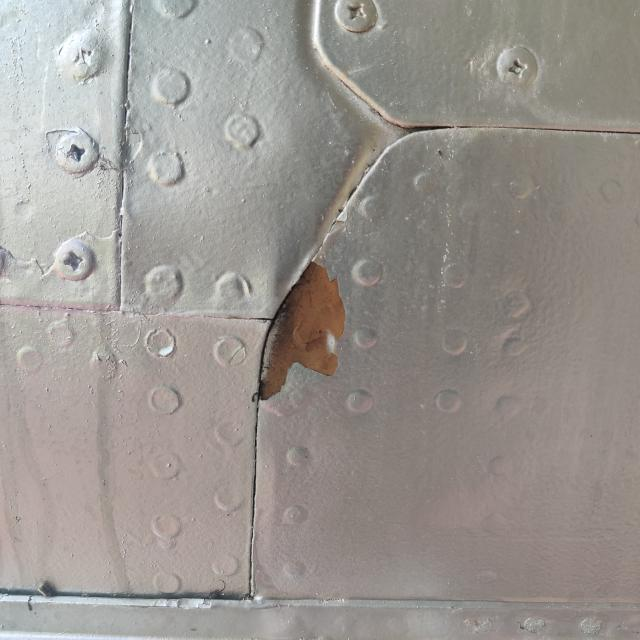paint-off: (226, 243, 378, 422)
